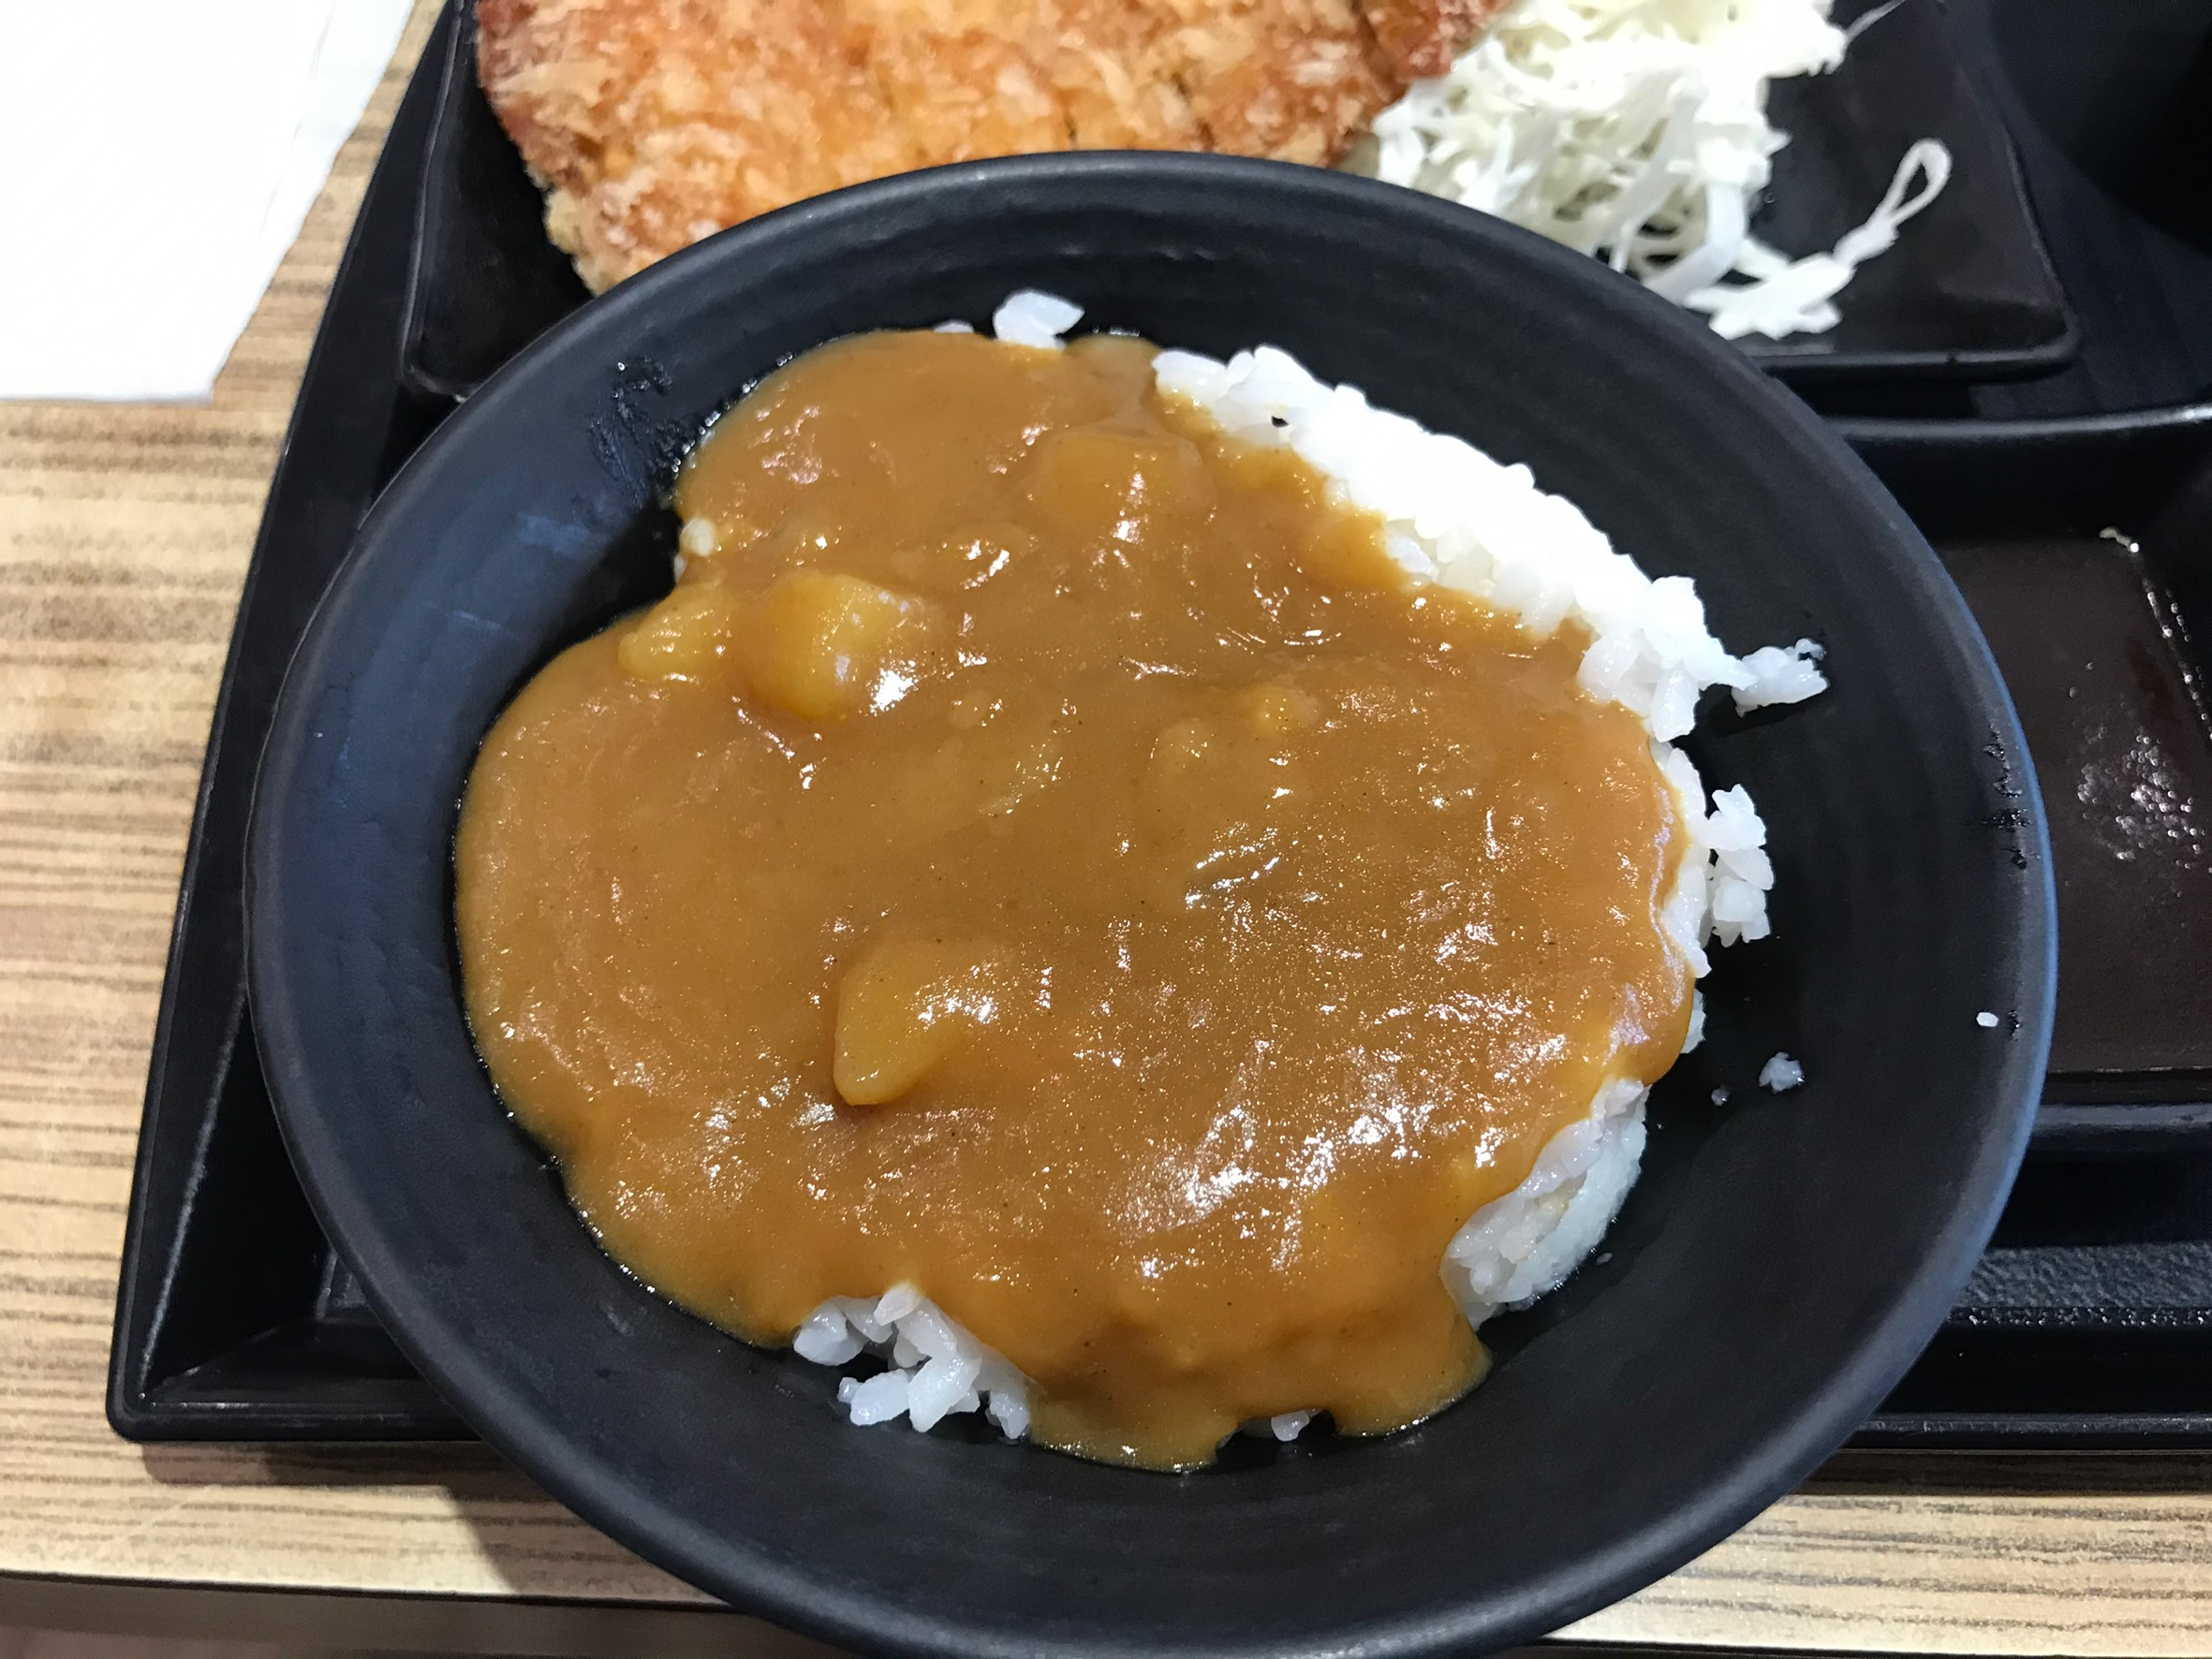curry: (499, 347, 1672, 1415)
